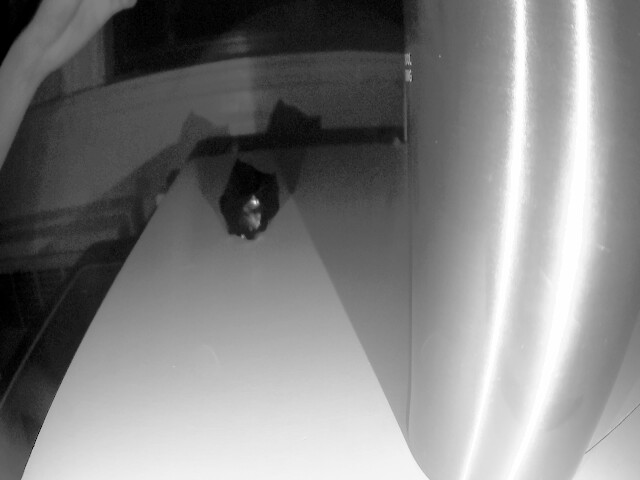silver: (219, 151, 290, 249)
